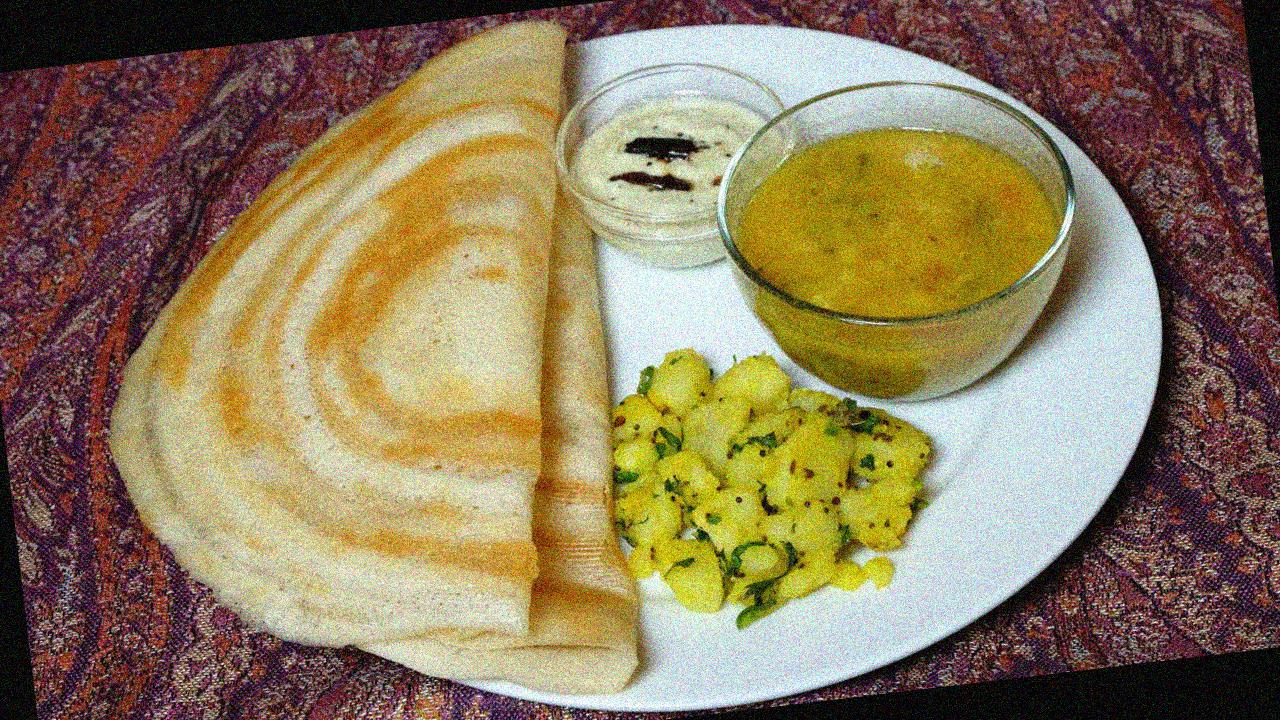dosa: (110, 18, 646, 702)
